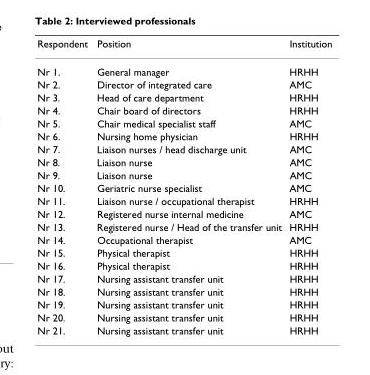table: (36, 37, 331, 335)
table column: (91, 37, 284, 335), (36, 37, 91, 335), (284, 37, 331, 335)
table column header: (36, 37, 331, 57)
table row: (36, 37, 331, 57), (36, 57, 331, 77), (36, 77, 331, 90), (36, 90, 331, 103), (36, 103, 331, 116), (36, 116, 331, 129), (36, 129, 331, 142), (36, 142, 331, 155), (36, 155, 331, 168), (36, 168, 331, 181), (36, 181, 331, 194), (36, 206, 331, 219), (36, 219, 331, 232), (36, 232, 331, 245), (36, 245, 331, 258), (36, 258, 331, 271), (36, 271, 331, 284), (36, 284, 331, 297), (36, 297, 331, 310), (36, 310, 331, 323), (36, 194, 331, 206), (36, 323, 331, 335)
